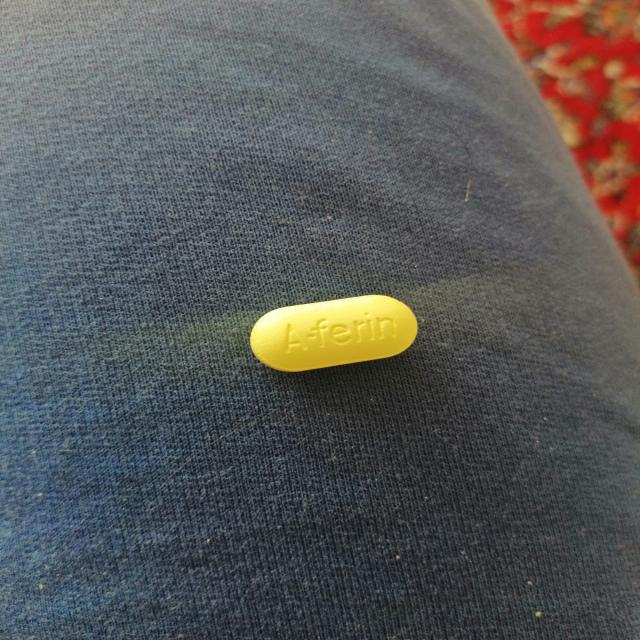pills: (232, 284, 436, 382)
